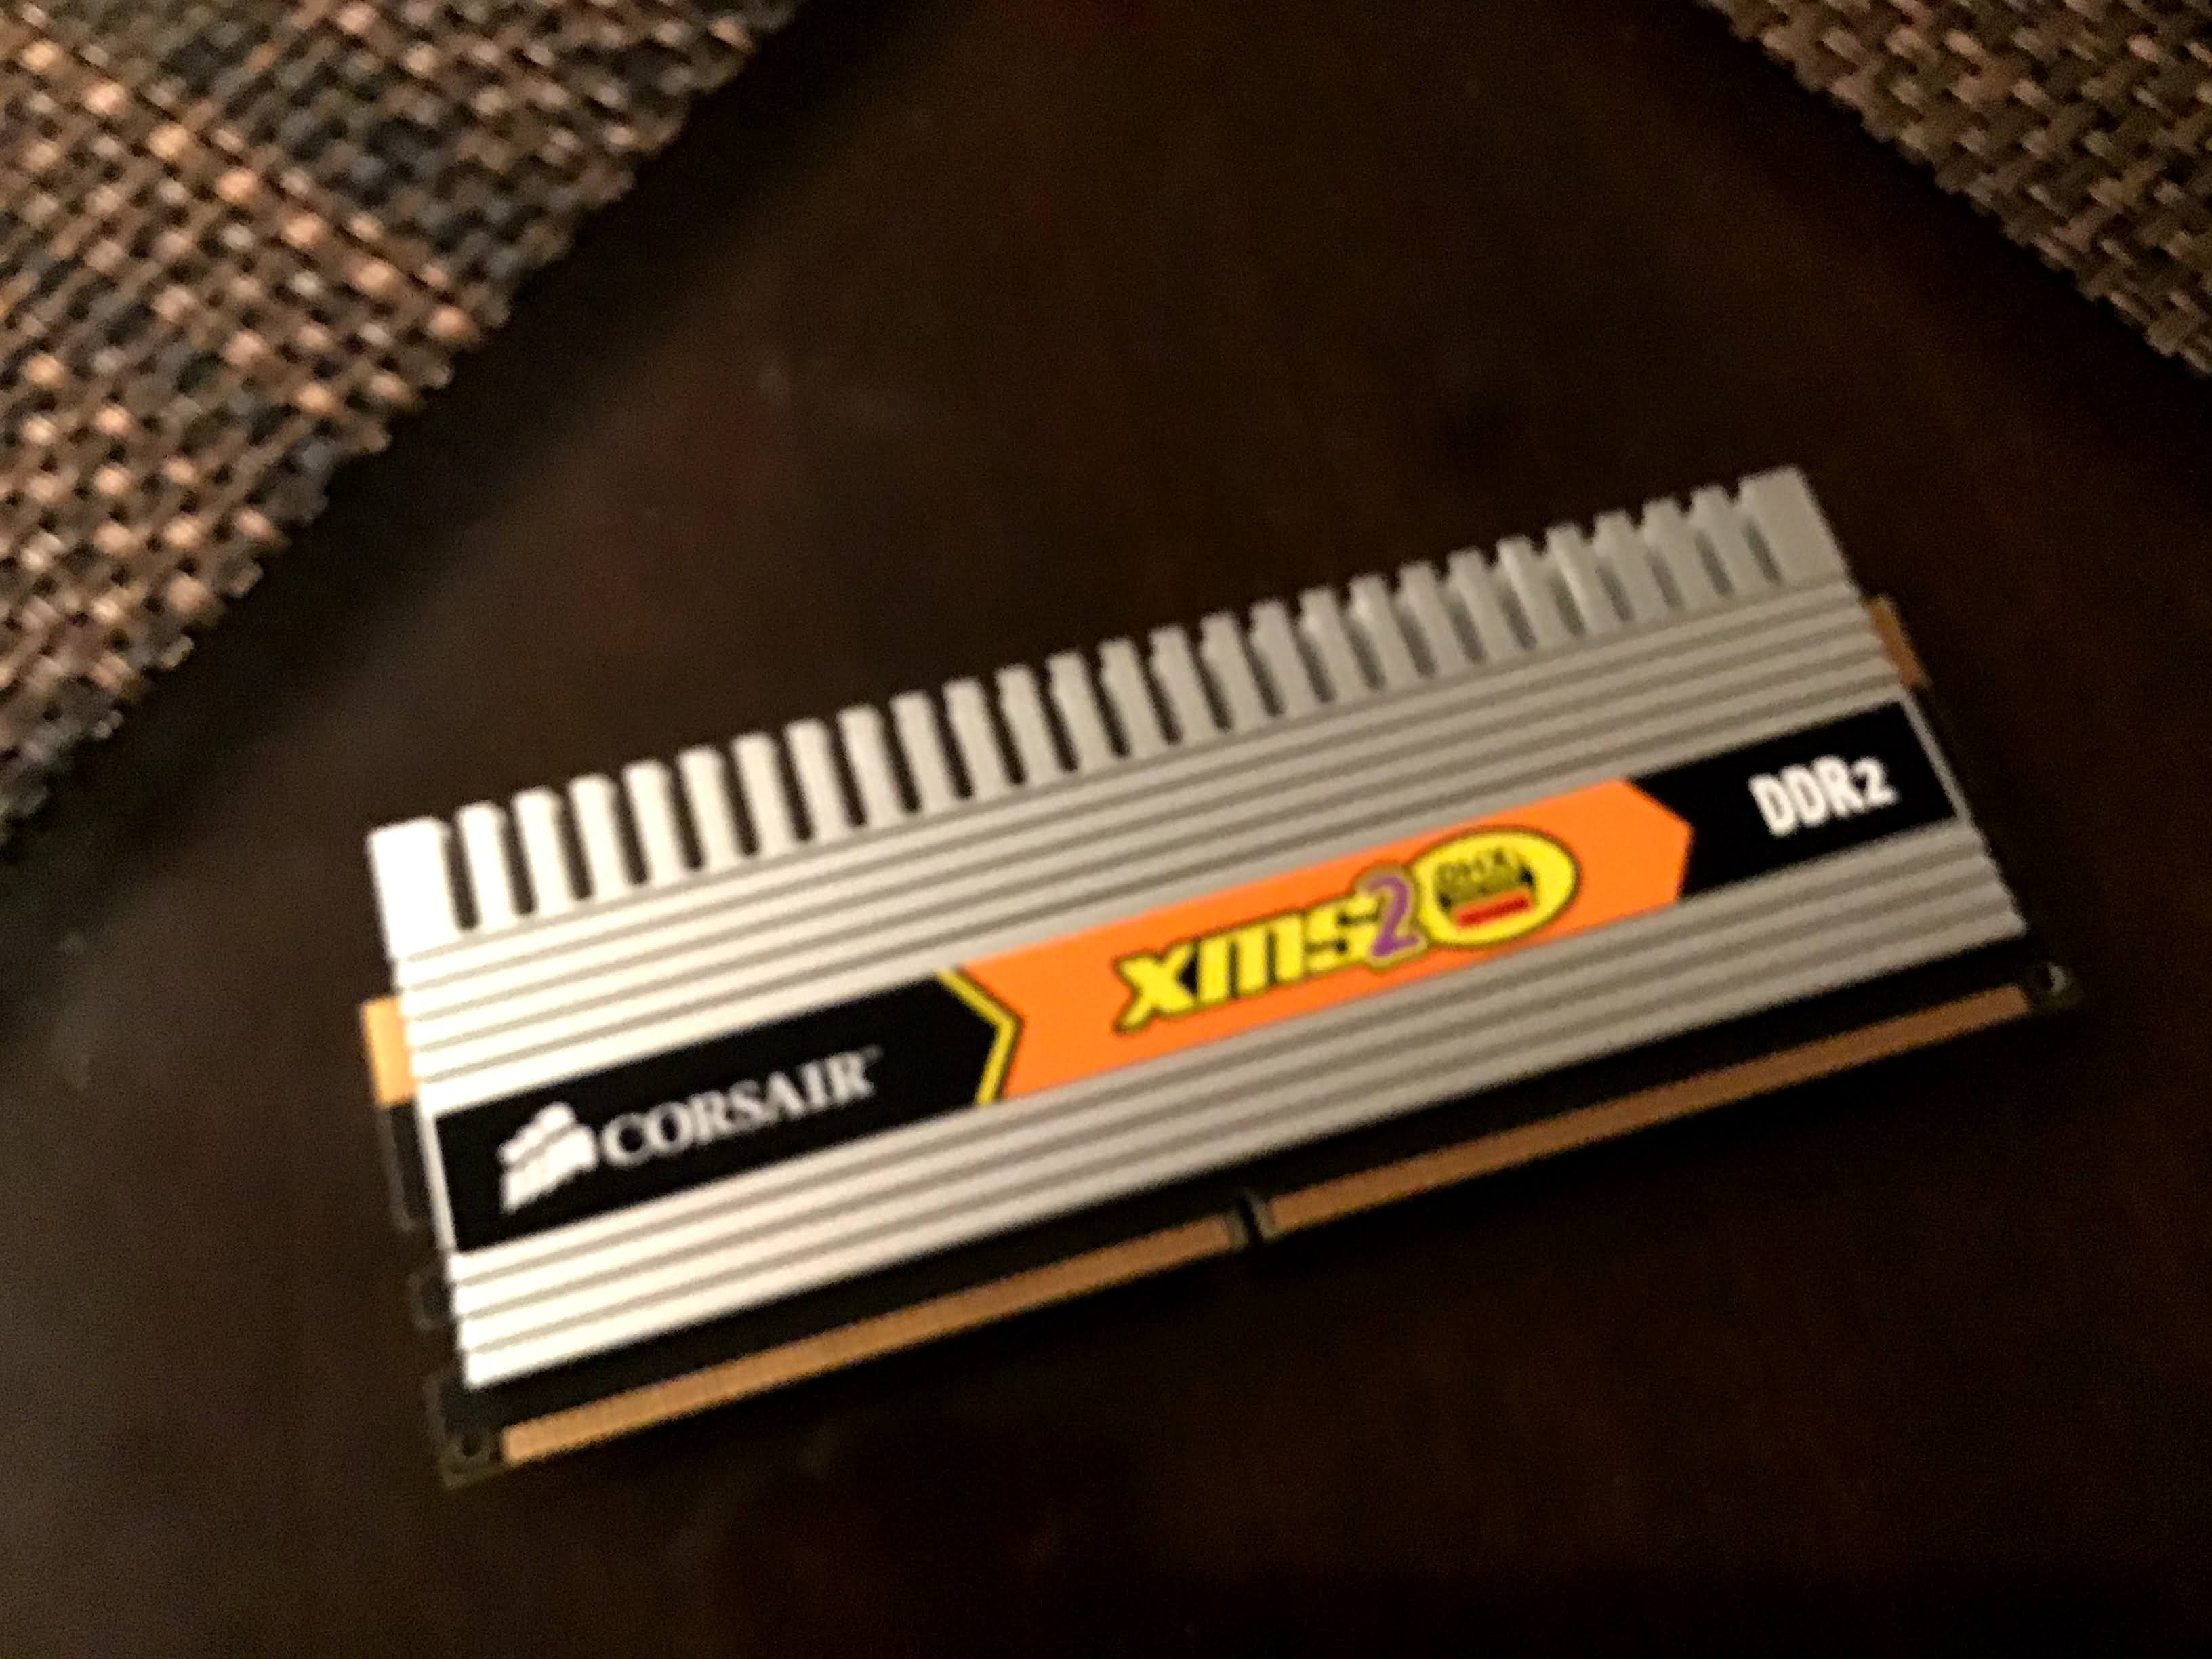Space-debris-medium: (315, 444, 2104, 1521)
